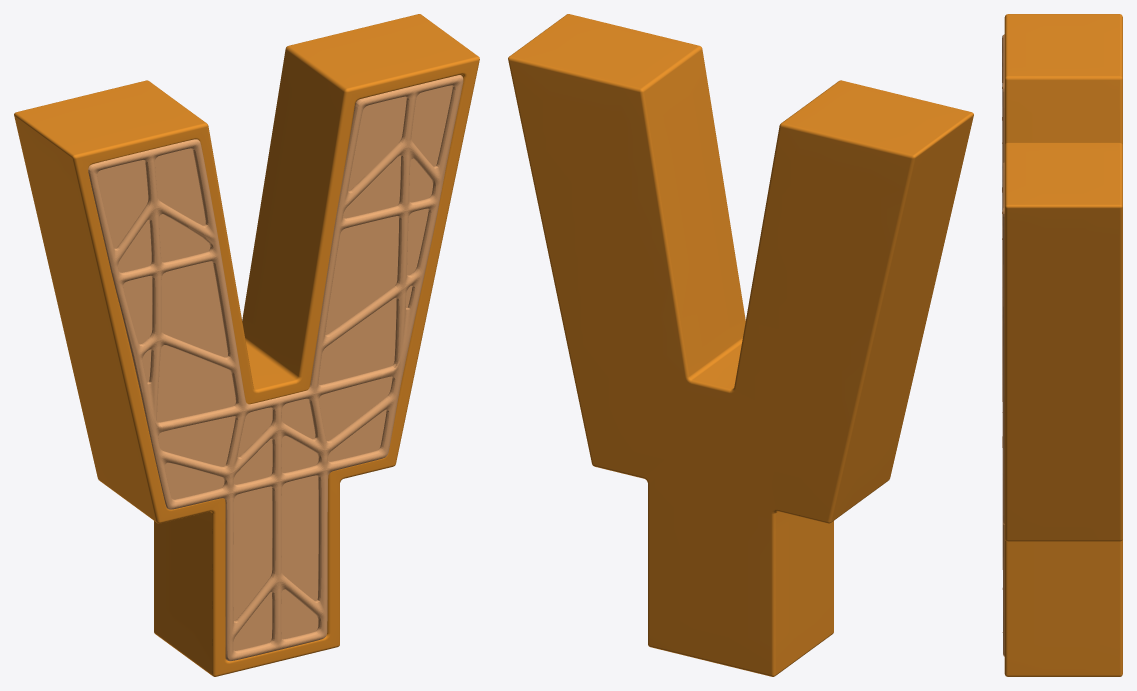
The model's file is Y_nuevo.glb.
The picture shows the model from 3 angles, left to right: view 1: azimuth 30°, elevation 25°; view 2: azimuth 150°, elevation 25°; view 3: azimuth 270°, elevation 25°; orthographic projection. The views are drawn at different scales.
Parts seen in each view (by area): view 1: Text.024, Plane.024, Plane.059; view 2: Text.024; view 3: Text.024, Plane.059.
Part boxes in pixels (left/top/right/bottom): Text.024: left=14, top=14, right=479, bottom=676; Plane.024: left=97, top=85, right=452, bottom=650; Plane.059: left=88, top=75, right=463, bottom=661; Text.024: left=508, top=14, right=973, bottom=676; Text.024: left=1004, top=14, right=1122, bottom=676; Plane.059: left=1002, top=34, right=1004, bottom=656.
Bounding box in the file's own units: 2.55 × 3.33 × 0.6772.
